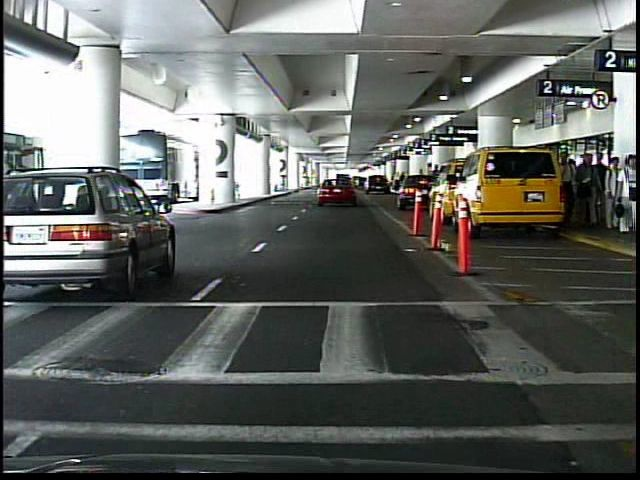person: (612, 154, 636, 232)
